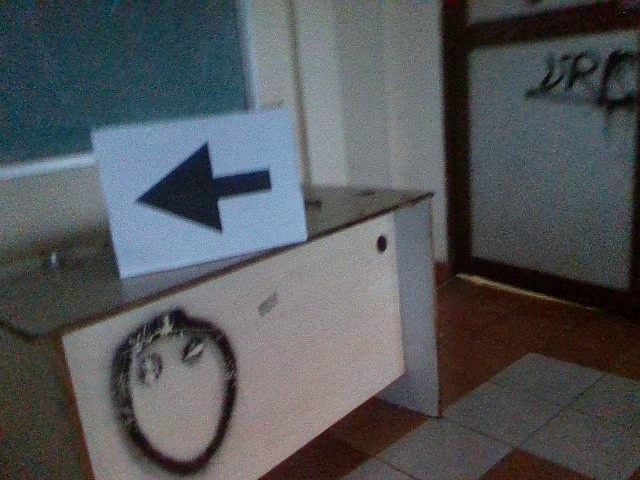Left: (126, 137, 276, 240)
